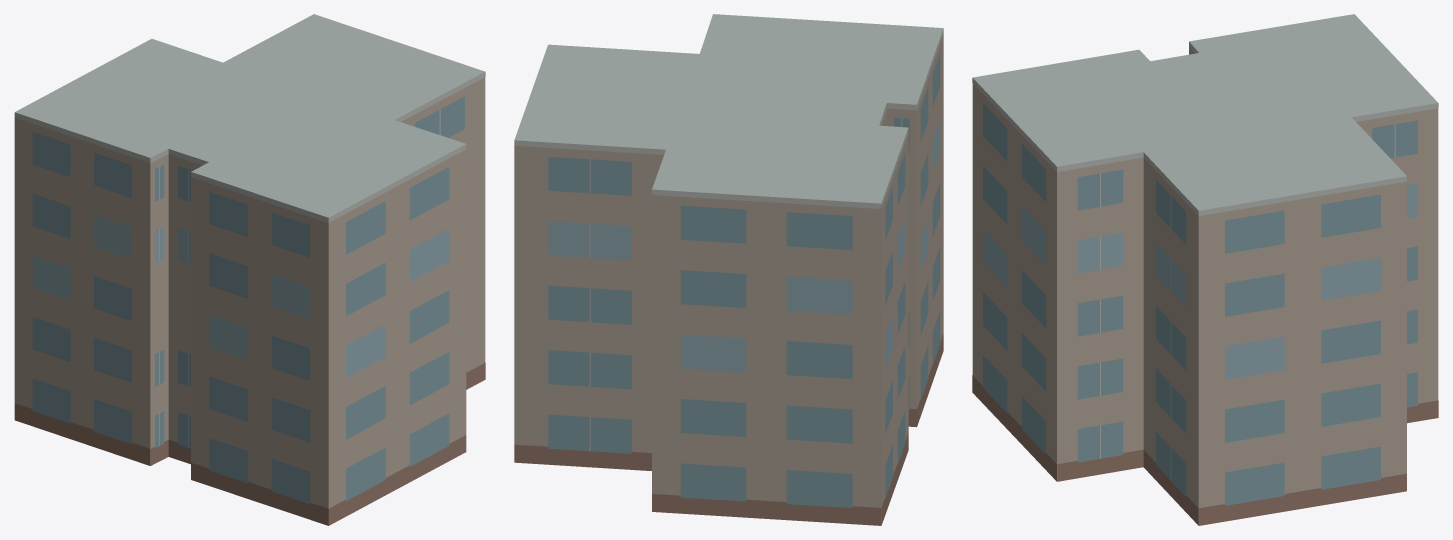
File: survey-upis-32722743.glb
The picture shows the model from 3 angles, left to right: view 1: azimuth 30°, elevation 25°; view 2: azimuth 150°, elevation 25°; view 3: azimuth 270°, elevation 25°; orthographic projection. The views are drawn at different scales.
Visible parts, largest first — view 1: survey-upis-32722743.tmp; view 2: survey-upis-32722743.tmp; view 3: survey-upis-32722743.tmp.
Part boxes in pixels (x1,y1,x2,y2): survey-upis-32722743.tmp: (14, 14, 485, 525); survey-upis-32722743.tmp: (514, 14, 943, 525); survey-upis-32722743.tmp: (972, 14, 1438, 525).
Size of the model in its own units: 19.18 by 14.3 by 19.18.
